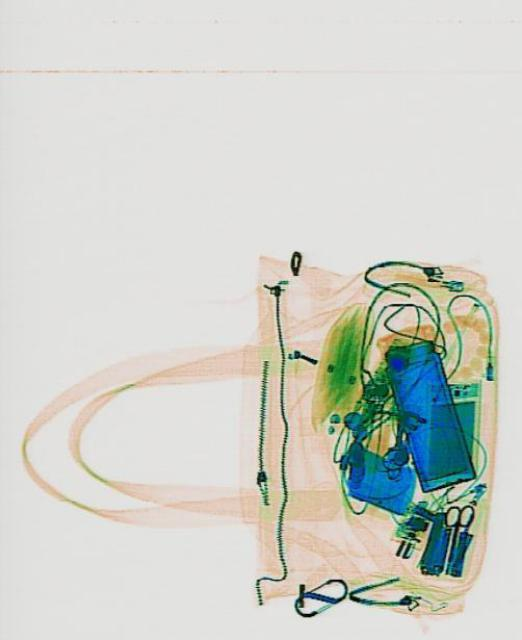Scissors: (434, 500, 473, 572)
